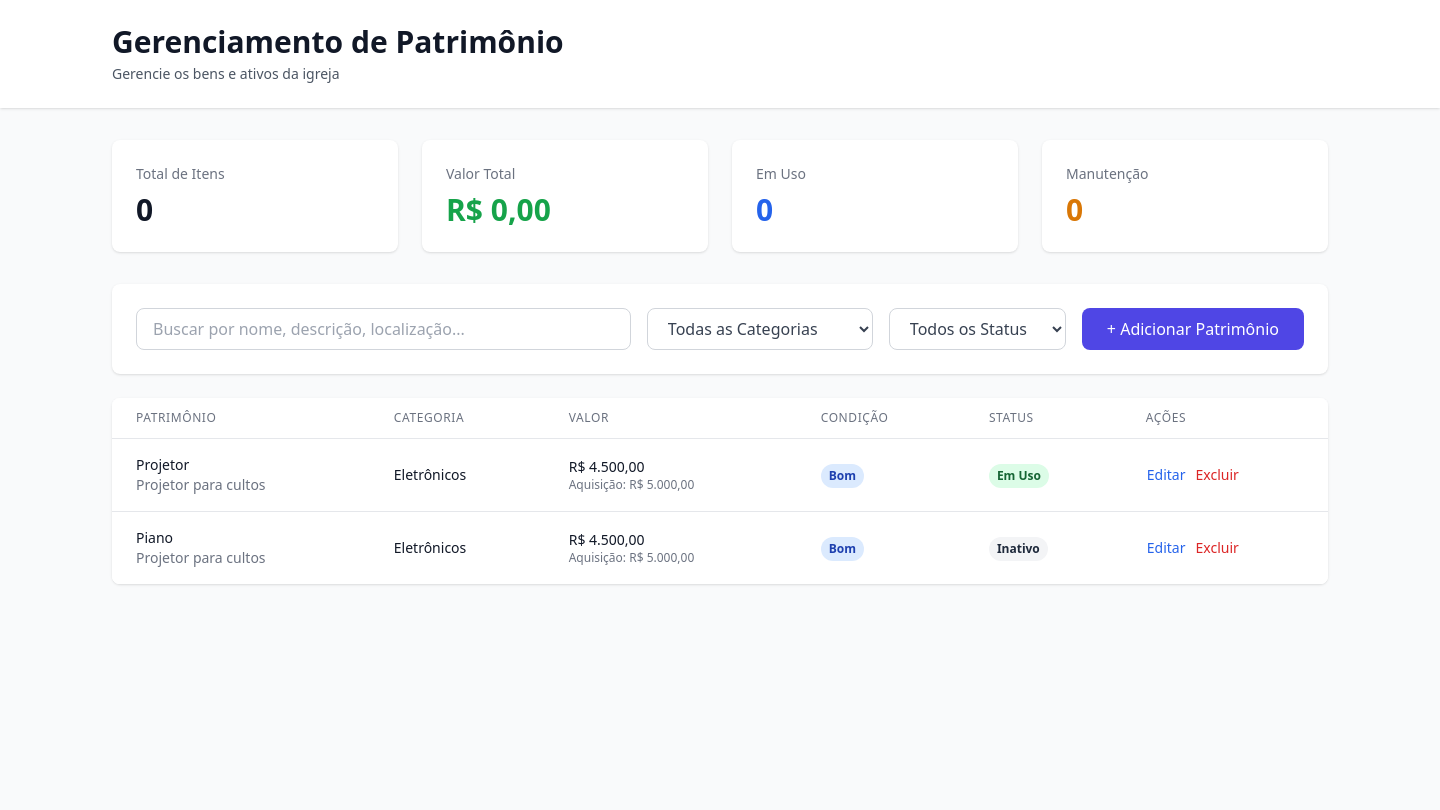
it: AssetsManagementPage › Search and Filtering › should filter assets by status
Expected: the text "Projetor" is shown, x1=136 y1=455 x2=189 y2=474
Select "Em Uso" in the 2nd dropdown showing "Todos os Status": (977, 329) x1=889 y1=308 x2=1066 y2=350
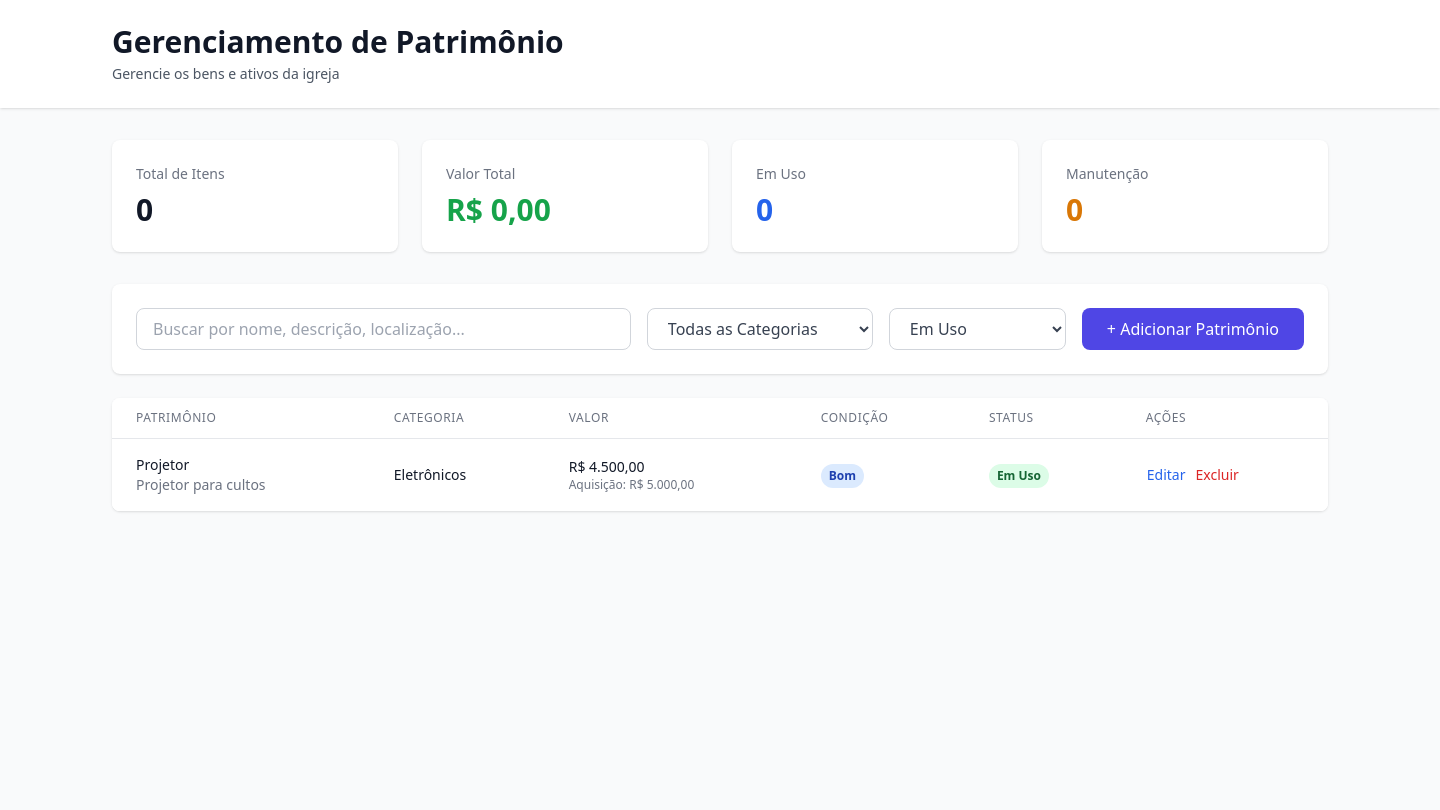
Expected: the text "Projetor" is shown, x1=136 y1=455 x2=189 y2=474
Expected: the text "Piano" is gone
